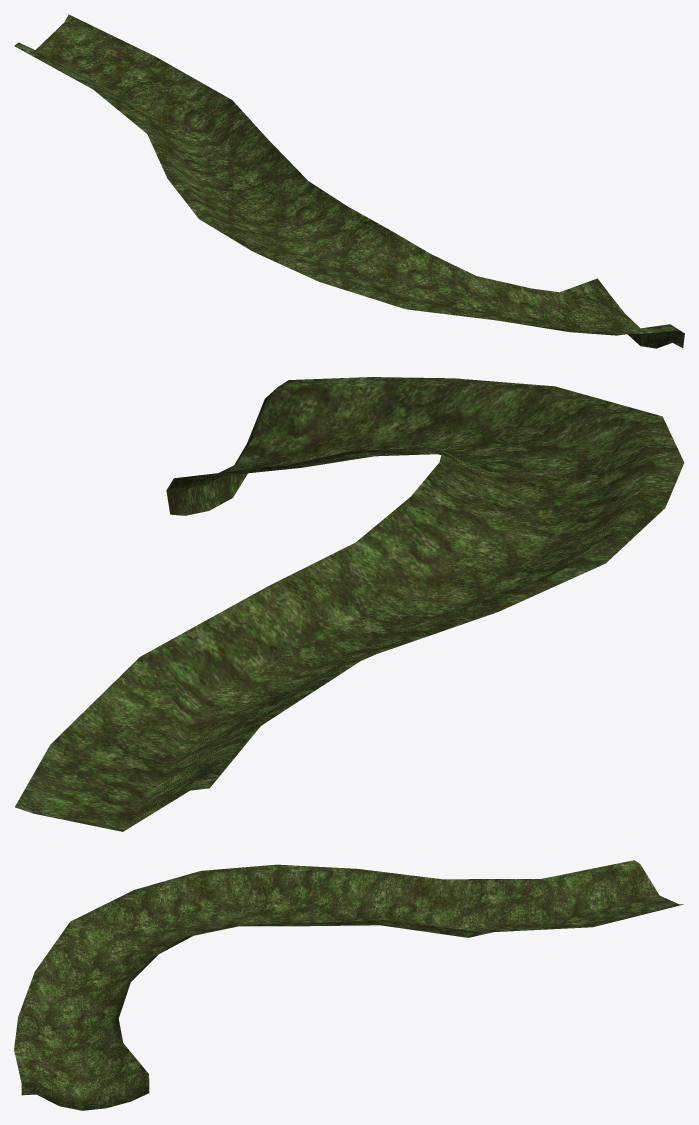
File: OVERHILL_A_01_OH_HACK_37465.fbx
3 renders of one model, top to bottom at view 1: azimuth 30°, elevation 25°; view 2: azimuth 150°, elevation 25°; view 3: azimuth 270°, elevation 25°, orthographic. The views are drawn at different scales.
Visible parts, largest first — view 1: OVERHILL_A_01_OH_HACK_37465; view 2: OVERHILL_A_01_OH_HACK_37465; view 3: OVERHILL_A_01_OH_HACK_37465.
Boxes of the visible parts, x1,y1,x2,y2 form: OVERHILL_A_01_OH_HACK_37465: (14, 14, 684, 348); OVERHILL_A_01_OH_HACK_37465: (15, 377, 684, 831); OVERHILL_A_01_OH_HACK_37465: (14, 860, 683, 1110).
Bounding box in the file's own units: 69886 × 27823 × 139186.
1 material, 1 textured.
